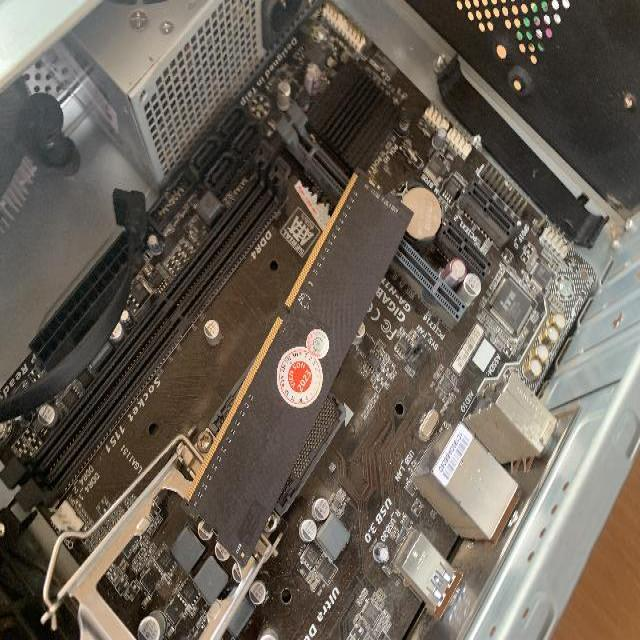Mainboard: (0, 120, 551, 640)
RAM: (184, 160, 416, 564)
